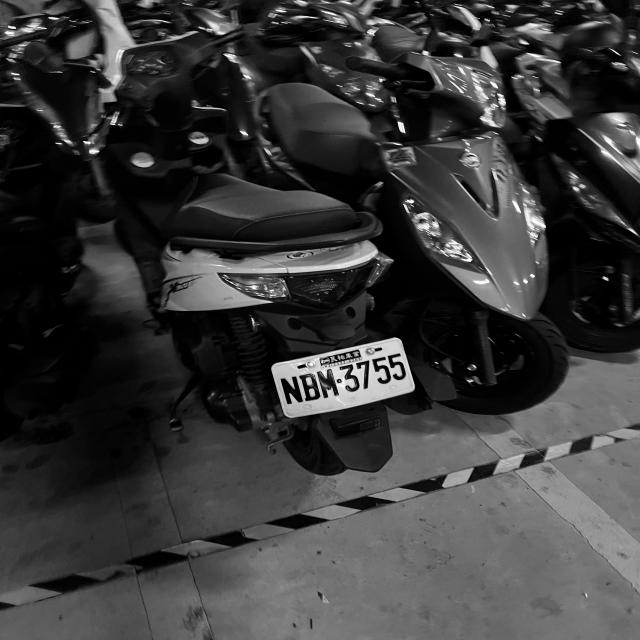-: (335, 378, 343, 385)
3: (338, 363, 363, 394)
5: (370, 355, 395, 386), (386, 351, 410, 382)
7: (355, 359, 370, 390)
B: (296, 370, 322, 404)
M: (316, 366, 340, 403)
N: (280, 372, 302, 407)
plate: (275, 348, 414, 408)
